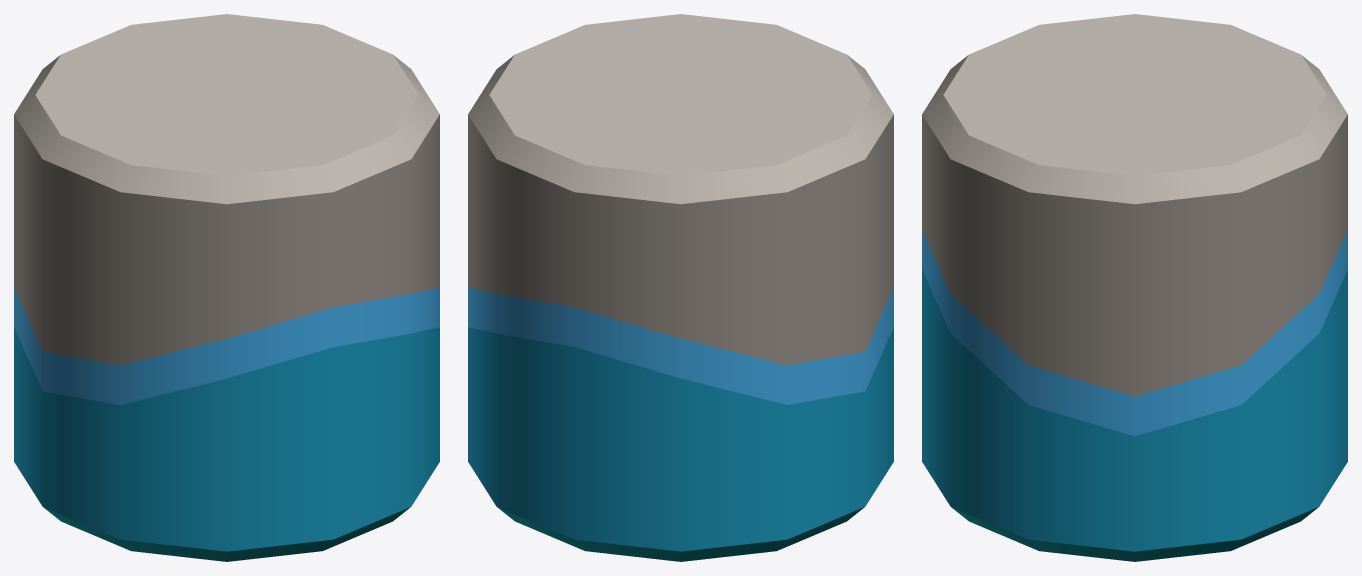
The model's file is m_deco_pillarCylinder_waterB.FBX.
3 views of the same model, side by side, from view 1: azimuth 30°, elevation 25°; view 2: azimuth 150°, elevation 25°; view 3: azimuth 270°, elevation 25° (orthographic).
Visible parts, largest first — view 1: m_deco_pillarCylinder_waterB; view 2: m_deco_pillarCylinder_waterB; view 3: m_deco_pillarCylinder_waterB.
Part boxes in pixels (x1=…): m_deco_pillarCylinder_waterB: x1=14, y1=14, x2=439, y2=561; m_deco_pillarCylinder_waterB: x1=468, y1=14, x2=893, y2=561; m_deco_pillarCylinder_waterB: x1=922, y1=14, x2=1347, y2=561.
Size of the model in its own units: 2 by 2 by 2.
